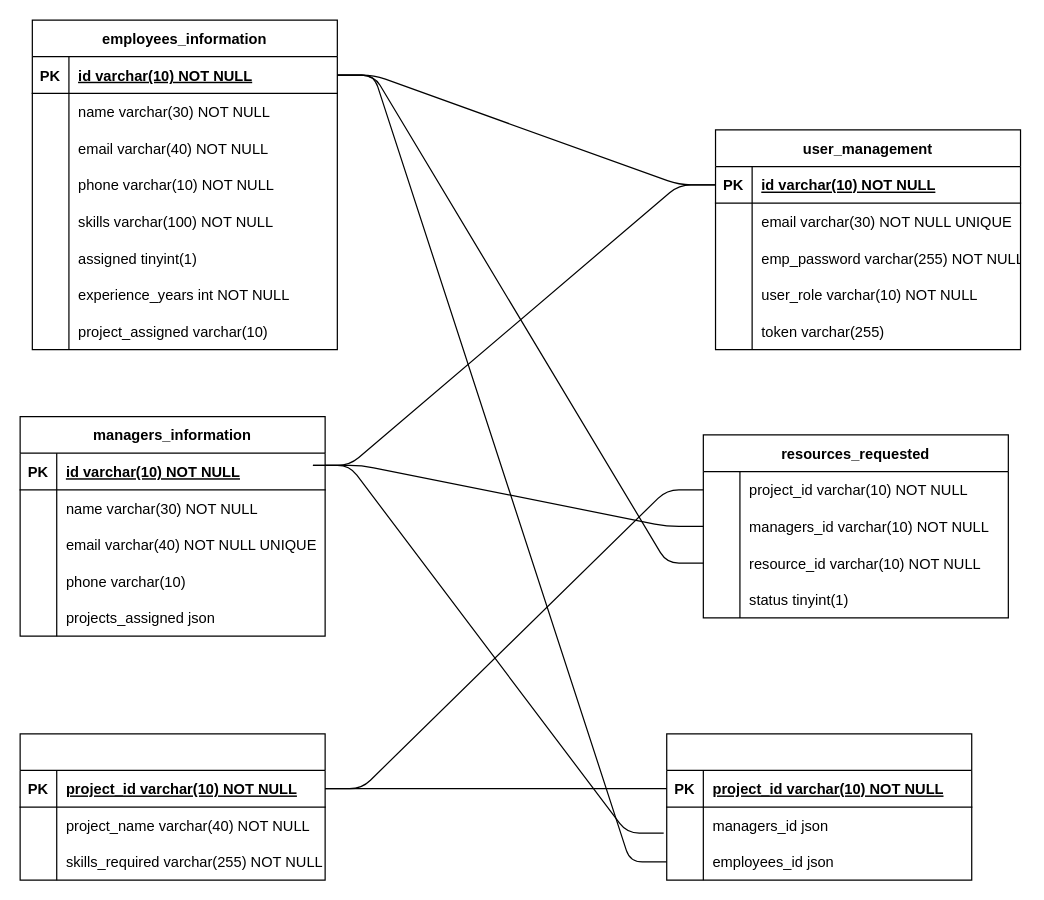
This 1044x900 diagram has some shape labels left out. The shapes that lost their labels are listed below. From the top down, each one's box as (x1, y1, x2, y2) in pixels, then its label:
(19, 733, 325, 880): project_information
(666, 733, 972, 880): project_assigned
